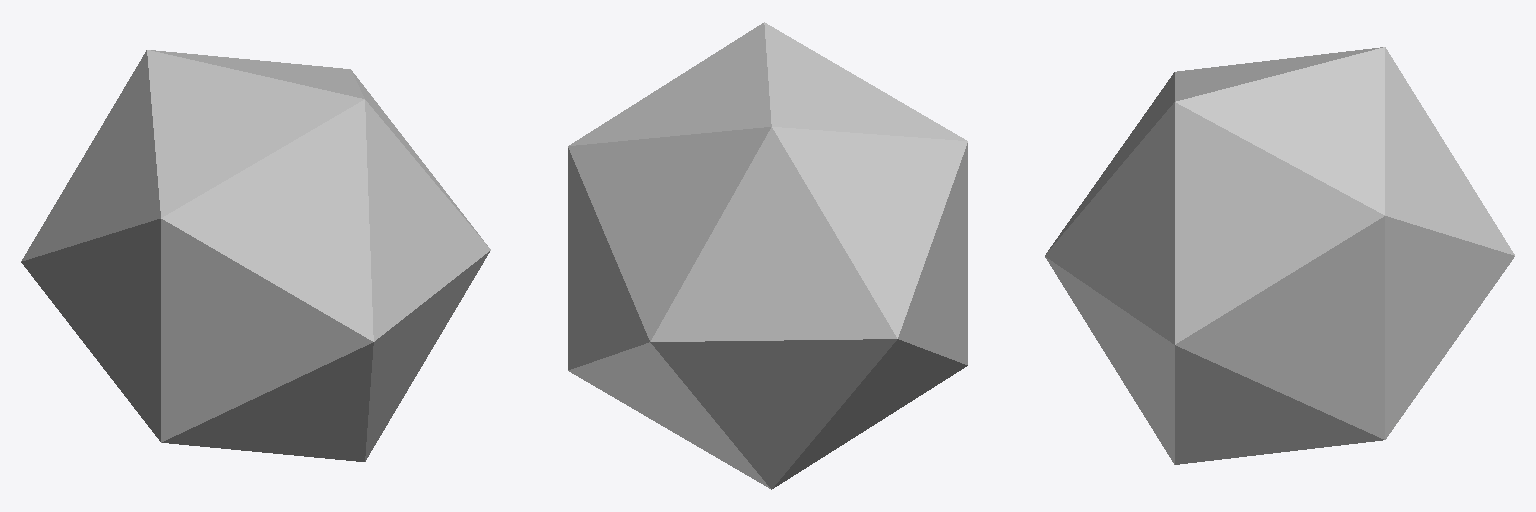
The model's file is Pent.obj.
3 renders of one model, left to right at view 1: azimuth 30°, elevation 25°; view 2: azimuth 150°, elevation 25°; view 3: azimuth 270°, elevation 25°, orthographic.
Visible parts, largest first — view 1: pPlatonic6; view 2: pPlatonic6; view 3: pPlatonic6.
Boxes of the visible parts, box(x1,y1,x2,y2) form: pPlatonic6: box(21, 50, 490, 461); pPlatonic6: box(568, 22, 967, 489); pPlatonic6: box(1045, 47, 1514, 464).
Size of the model in its own units: 1.07 by 1.01 by 1.19.